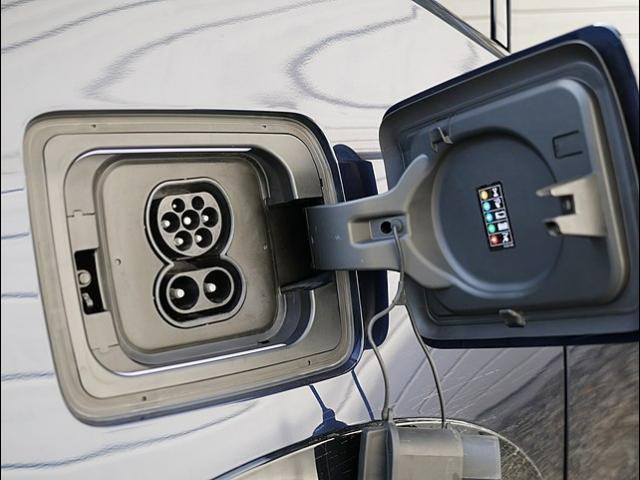inlet: (158, 192, 222, 256)
inlet-above-left: (172, 198, 186, 212)
inlet-above-right: (191, 195, 205, 211)
inlet-below-left: (174, 230, 193, 252)
inlet-below-right: (194, 228, 213, 249)
inlet-circle: (181, 209, 200, 231)
inlet-circle-left: (162, 212, 180, 233)
inlet-circle-right: (202, 207, 219, 228)
inlet-minus: (204, 269, 232, 303)
inlet-plus: (169, 275, 199, 310)
